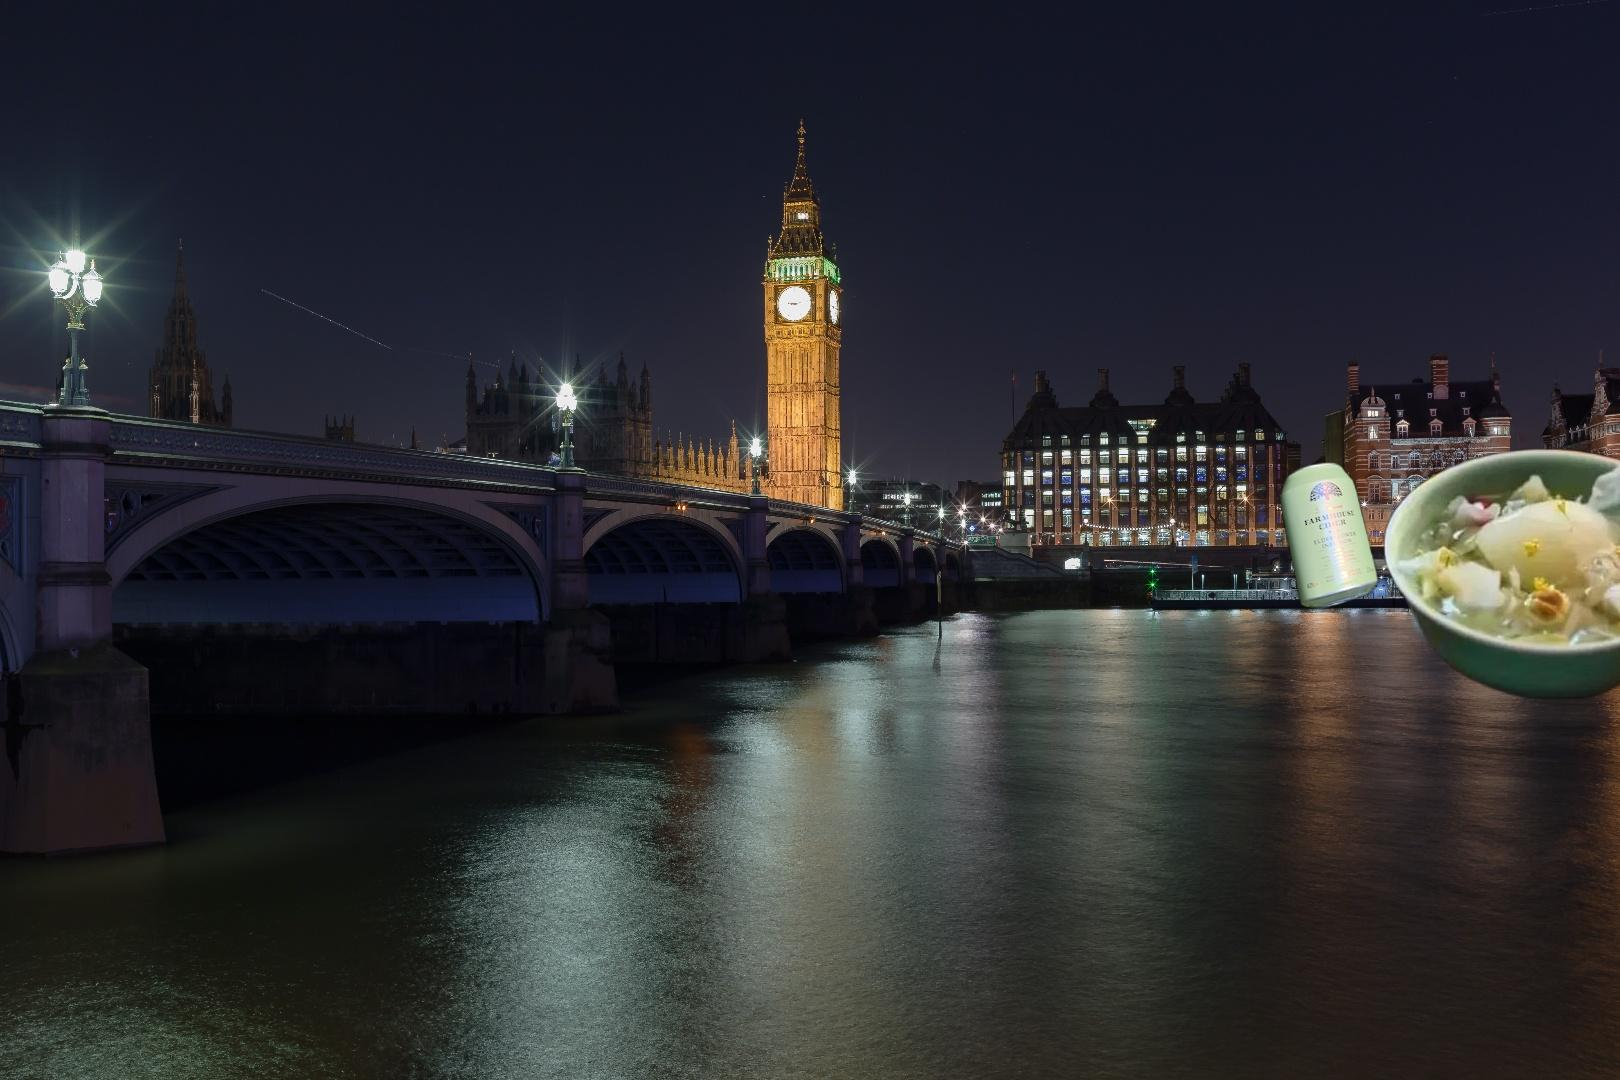biological: (1379, 444, 1620, 703)
metal-cans: (1275, 409, 1620, 614)
